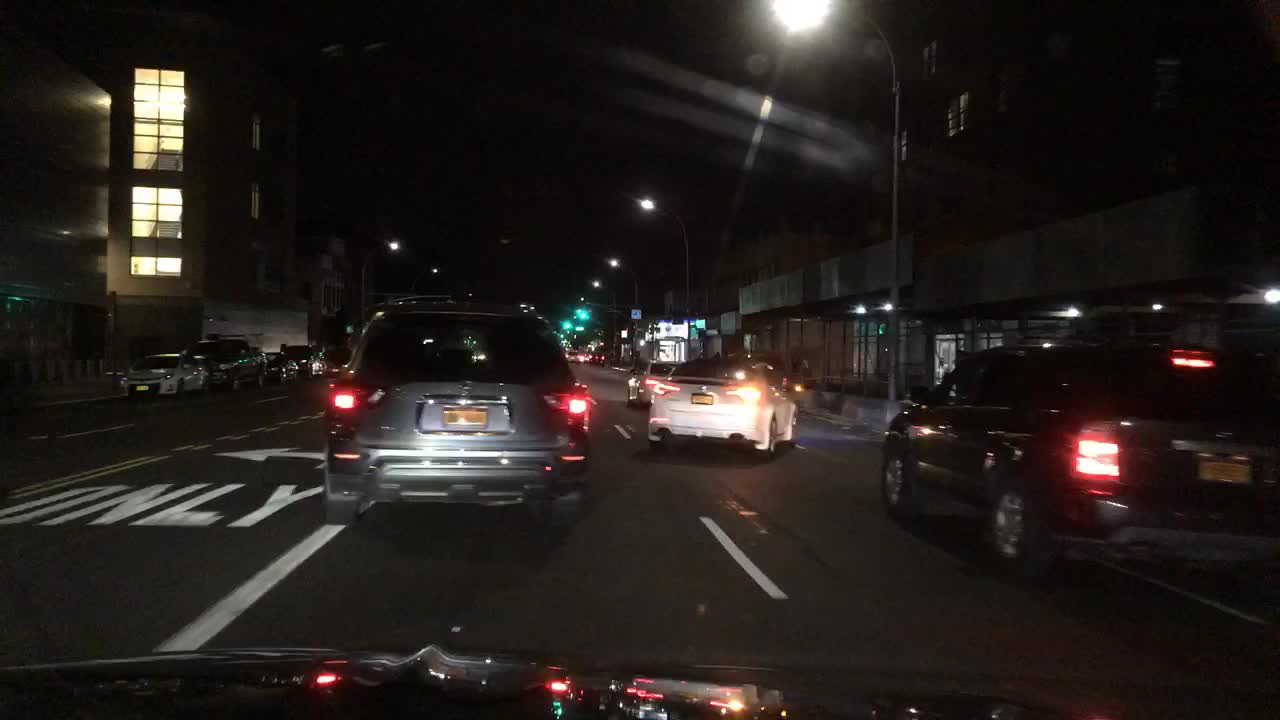car: (877, 341, 1279, 580), (320, 297, 594, 525), (644, 349, 798, 462), (116, 347, 209, 403), (195, 336, 265, 390), (622, 359, 678, 407), (283, 341, 327, 378), (265, 347, 300, 381), (587, 349, 606, 366), (563, 347, 580, 364), (577, 347, 592, 361)
traffic light: (577, 304, 587, 320), (560, 315, 570, 329)
traffic sign: (627, 305, 641, 320), (617, 327, 631, 341)
